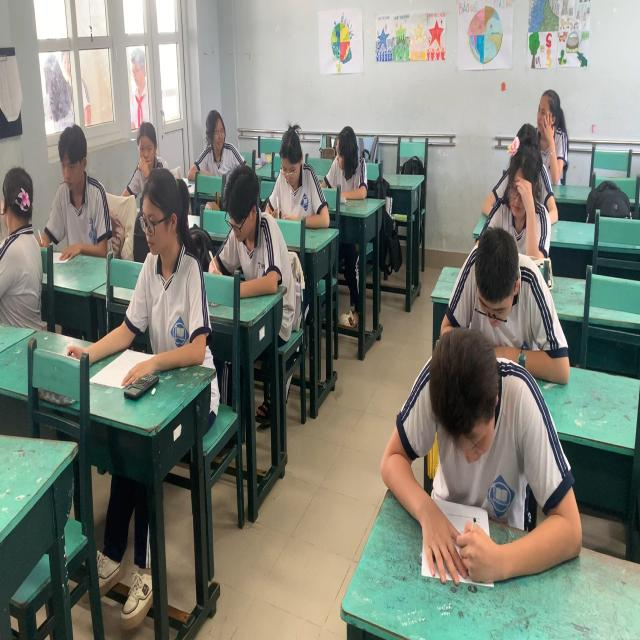cheating: (0, 143, 46, 329), (322, 116, 377, 194), (198, 108, 234, 170)
not_cheating: (402, 326, 520, 585), (112, 167, 214, 384), (447, 222, 532, 354), (231, 160, 316, 284), (49, 112, 104, 270), (278, 115, 324, 236), (496, 139, 538, 236), (120, 115, 171, 177), (527, 63, 561, 153)
